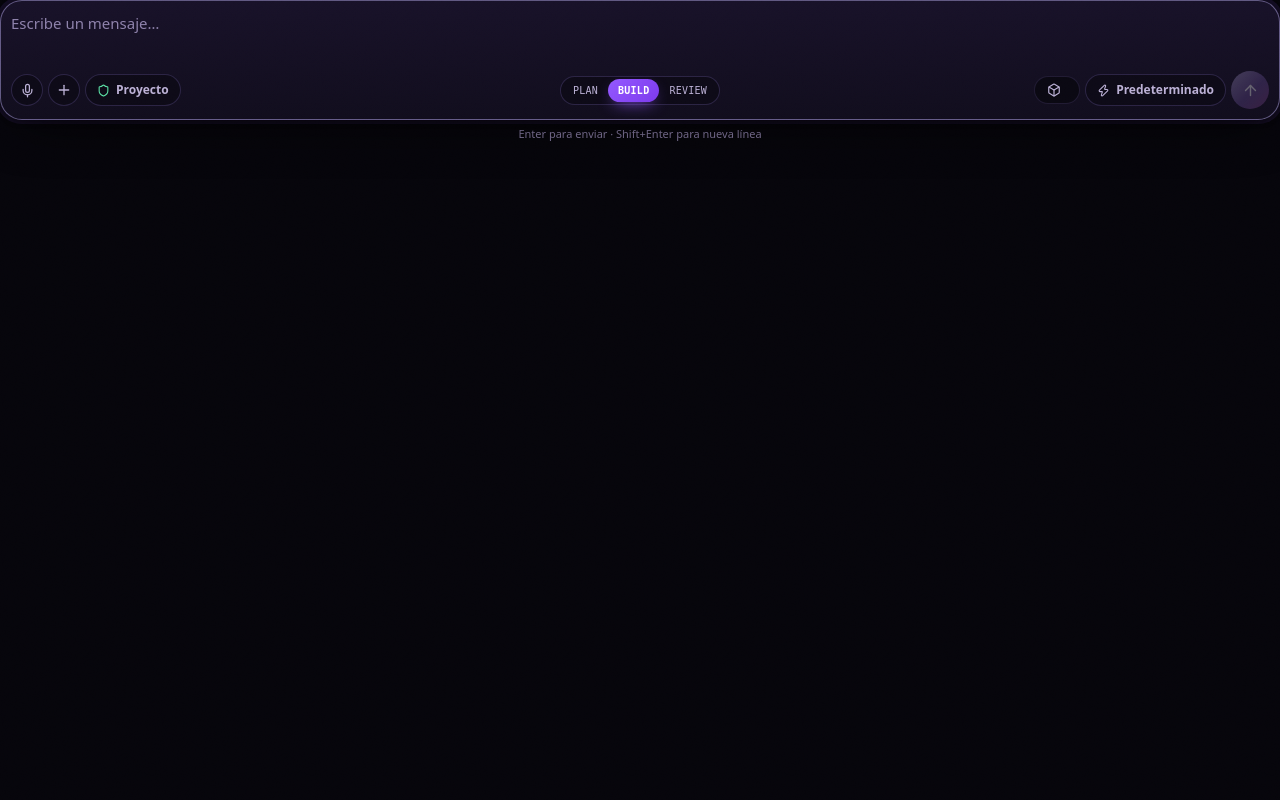
Test case: asks before turning on full access and changes nothing on cancel
The image size is (1280, 800).
Click the button titled "Permisos de este chat": (133, 90) [85,74,181,106]
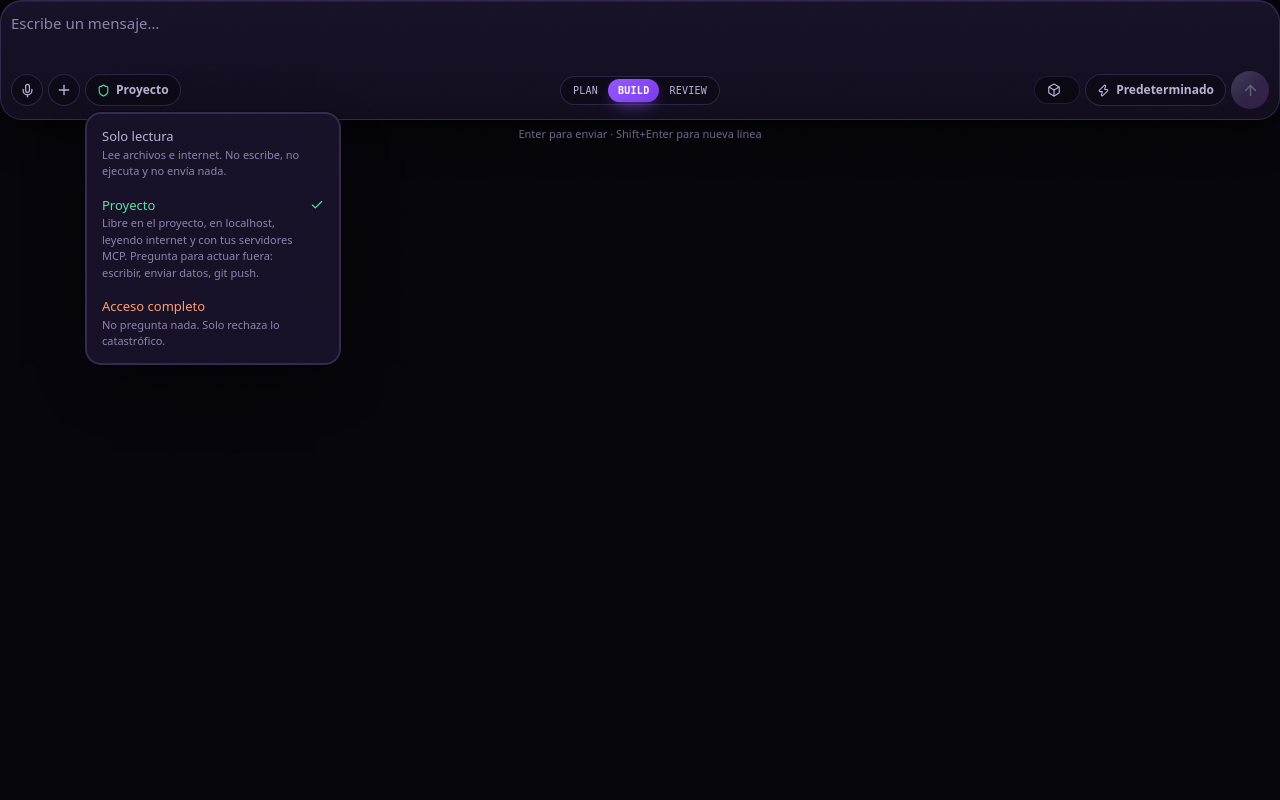
Click the button "Acceso completo": (213, 323) [92,289,334,358]
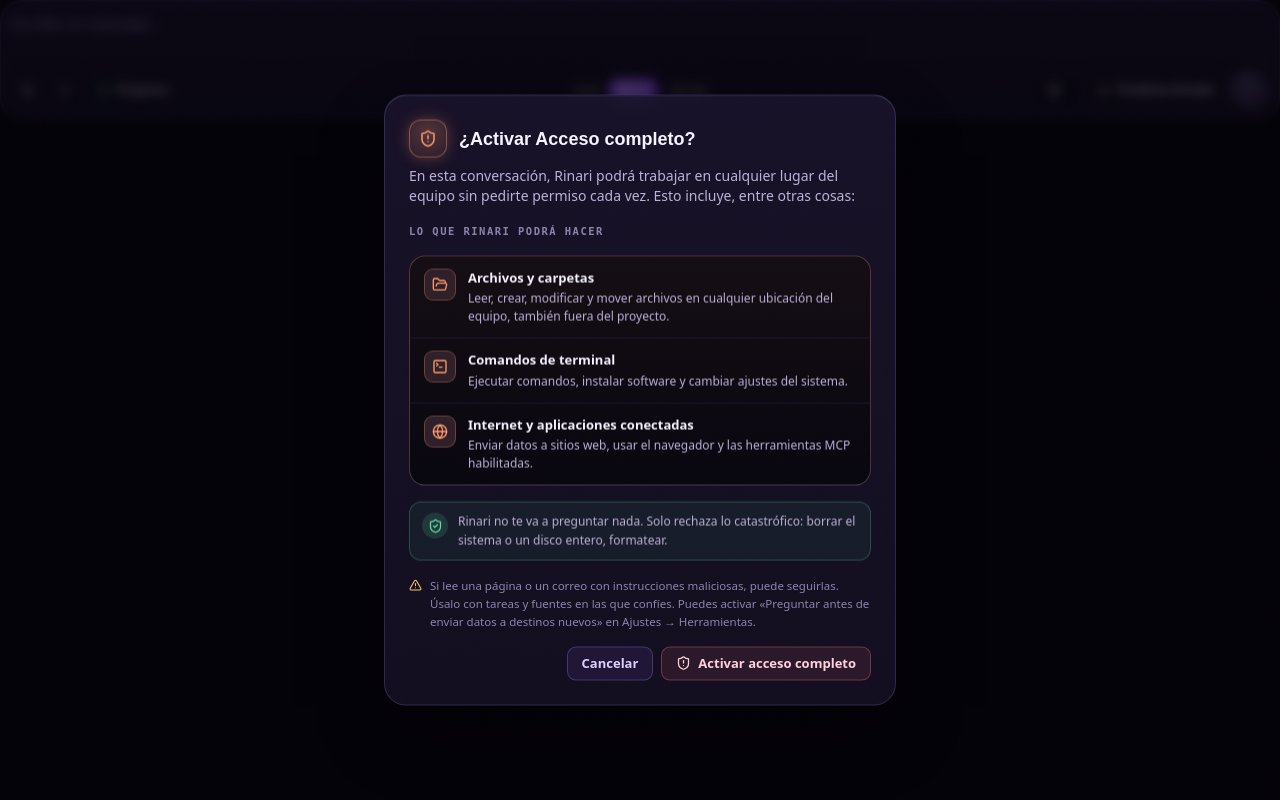
Expected: the dialog with test id "full-access-dialog" shows "Archivos y carpetas", [468,268,594,286]
Expected: the dialog with test id "full-access-dialog" shows "Comandos de terminal", [468,351,615,369]
Expected: the dialog with test id "full-access-dialog" shows "Internet y aplicaciones conectadas", [468,415,694,433]
Click the button "Cancelar": (610, 663) [567,646,653,680]
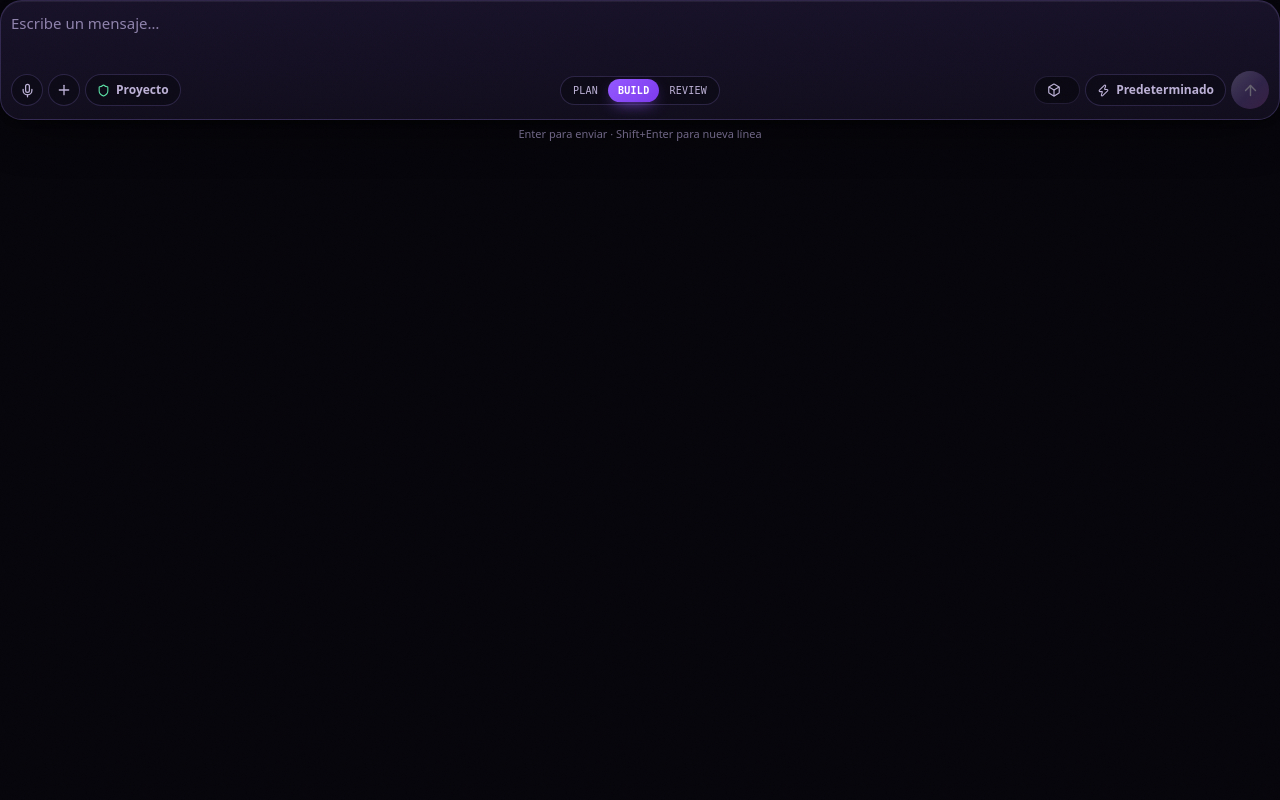
Expected: the dialog with test id "full-access-dialog" is gone
